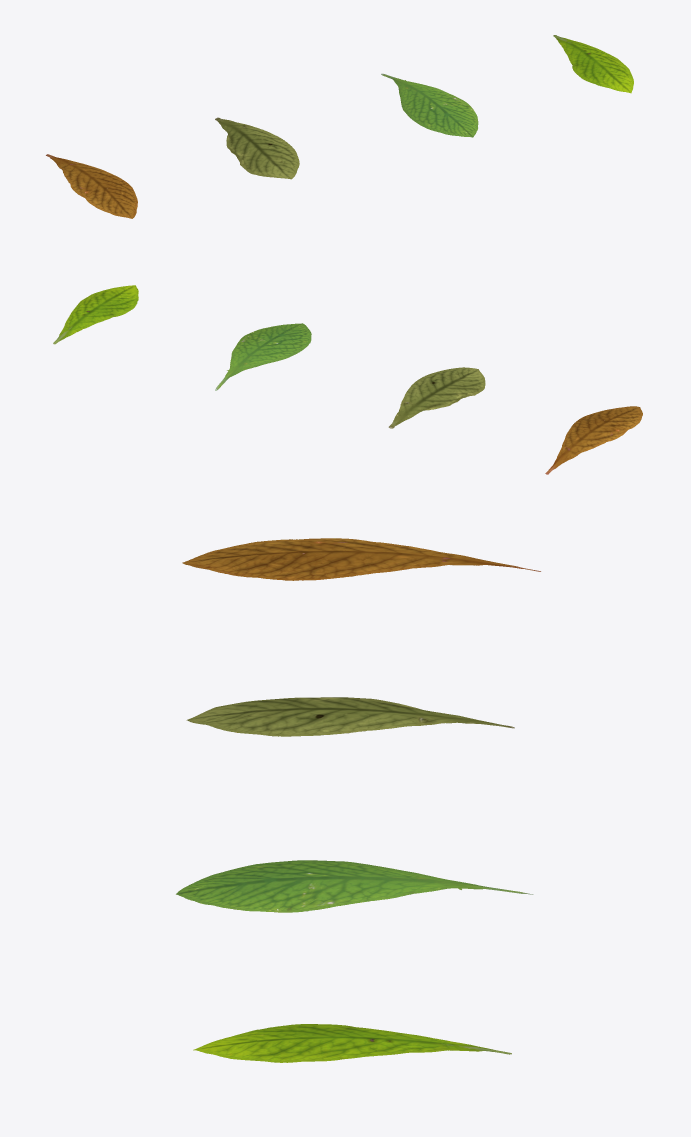
Rendered from ketapang-drift-leaves.glb.
3 views of the same model, one above another, from view 1: azimuth 30°, elevation 25°; view 2: azimuth 150°, elevation 25°; view 3: azimuth 270°, elevation 25° (orthographic). The views are drawn at different scales.
Parts seen in each view (by area): view 1: Leaf1, DryLeaf1, OrangeLeaf1, YellowLeaf1; view 2: DryLeaf1, Leaf1, OrangeLeaf1, YellowLeaf1; view 3: Leaf1, OrangeLeaf1, DryLeaf1, YellowLeaf1.
Boxes of the visible parts, x1,y1,x2,y2 form: Leaf1: [381, 73, 478, 137]; DryLeaf1: [215, 117, 299, 179]; OrangeLeaf1: [46, 154, 137, 218]; YellowLeaf1: [553, 35, 633, 93]; DryLeaf1: [388, 367, 485, 428]; Leaf1: [215, 323, 311, 390]; OrangeLeaf1: [545, 406, 642, 474]; YellowLeaf1: [53, 285, 138, 344]; Leaf1: [176, 860, 533, 912]; OrangeLeaf1: [182, 538, 540, 580]; DryLeaf1: [186, 697, 514, 736]; YellowLeaf1: [193, 1024, 511, 1062].
Size of the model in its own units: 1.81 by 0.081 by 0.68.
4 materials, 4 textured.
